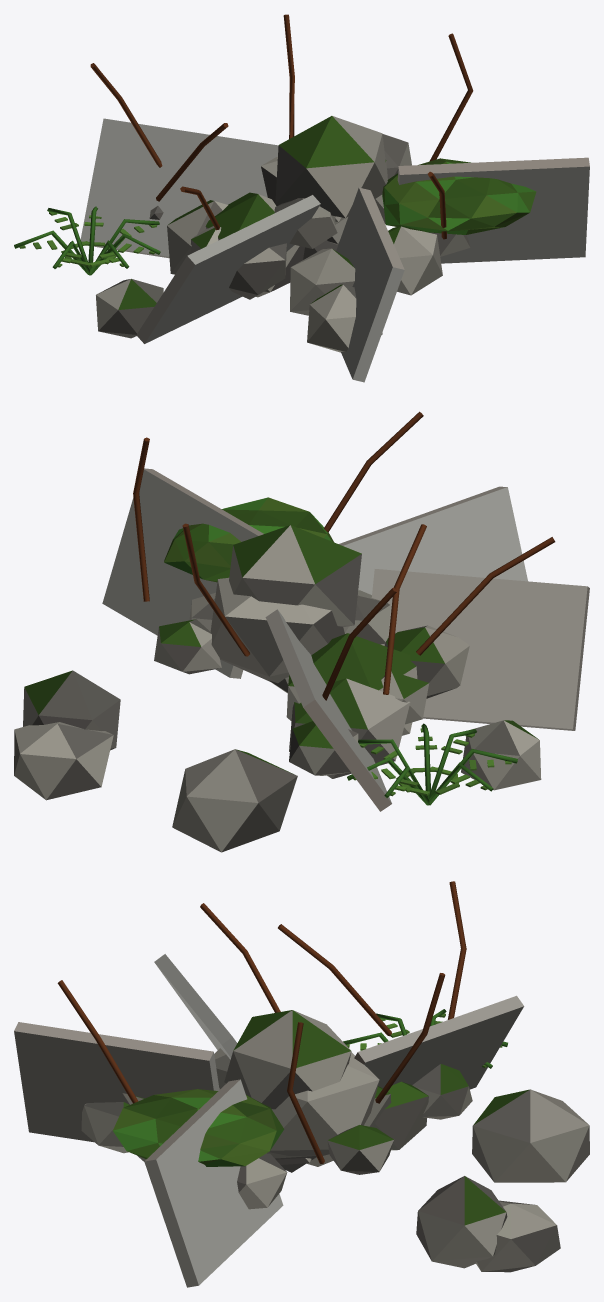
The model's file is rubble_pile.glb.
3 renders of one model, top to bottom at view 1: azimuth 30°, elevation 25°; view 2: azimuth 150°, elevation 25°; view 3: azimuth 270°, elevation 25°, orthographic. The views are drawn at different scales.
Visible parts, largest first — view 1: Mesh; view 2: Mesh; view 3: Mesh.
Part boxes in pixels (x1,y1,x2,y2): Mesh: (14, 14, 589, 382); Mesh: (14, 411, 589, 852); Mesh: (14, 881, 589, 1287).
Bounding box in the file's own units: 3.31 × 1.66 × 3.33.
